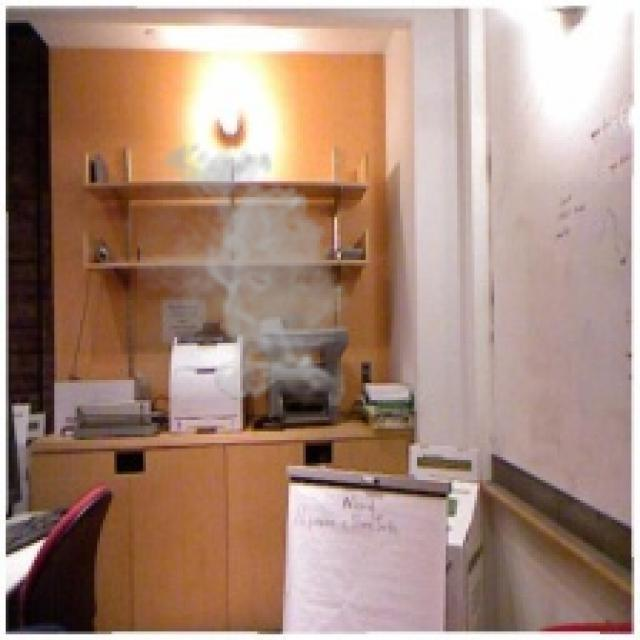Smoke: (137, 134, 357, 406)
